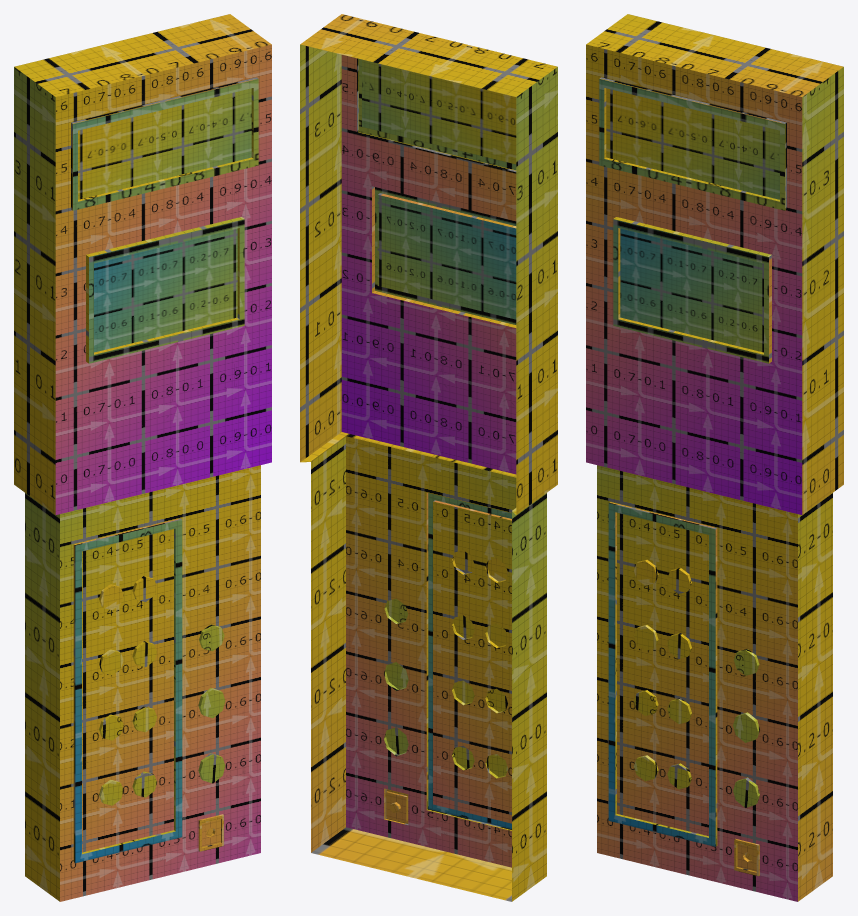
File: m_unique_elevatorButtons_low.fbx
The picture shows the model from 3 angles, left to right: view 1: azimuth 30°, elevation 25°; view 2: azimuth 150°, elevation 25°; view 3: azimuth 330°, elevation 25°; orthographic projection.
Parts seen in each view (by area): view 1: Cube.001; view 2: Cube.001; view 3: Cube.001.
Part boxes in pixels (<box>): Cube.001: <box>14,14,271,901</box>; Cube.001: <box>300,14,557,901</box>; Cube.001: <box>586,14,843,901</box>.
Bounding box in the file's own units: 31.19 × 112 × 11.18.
